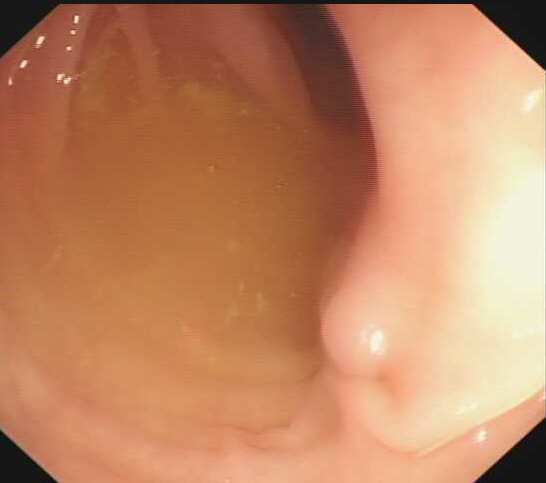others: (316, 281, 399, 380)
